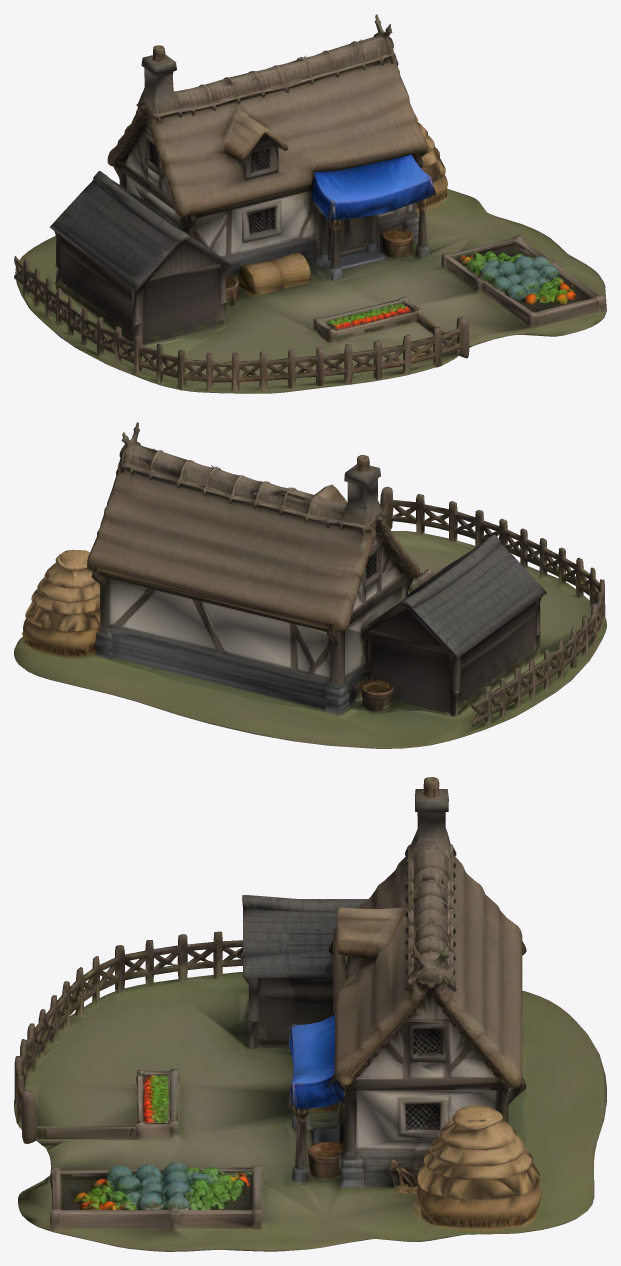
The model's file is hum_farm.glb.
The picture shows the model from 3 angles, top to bottom: view 1: azimuth 30°, elevation 25°; view 2: azimuth 150°, elevation 25°; view 3: azimuth 270°, elevation 25°; orthographic projection. The views are drawn at different scales.
Visible parts, largest first — view 1: node_0; view 2: node_0; view 3: node_0.
Part boxes in pixels (x1,y1,x2,y2): node_0: [14, 14, 606, 393]; node_0: [14, 422, 606, 748]; node_0: [14, 777, 606, 1251].
Size of the model in its own units: 0.9656 by 0.4432 by 0.8561.
Materials: 1 (1 with a texture image).
